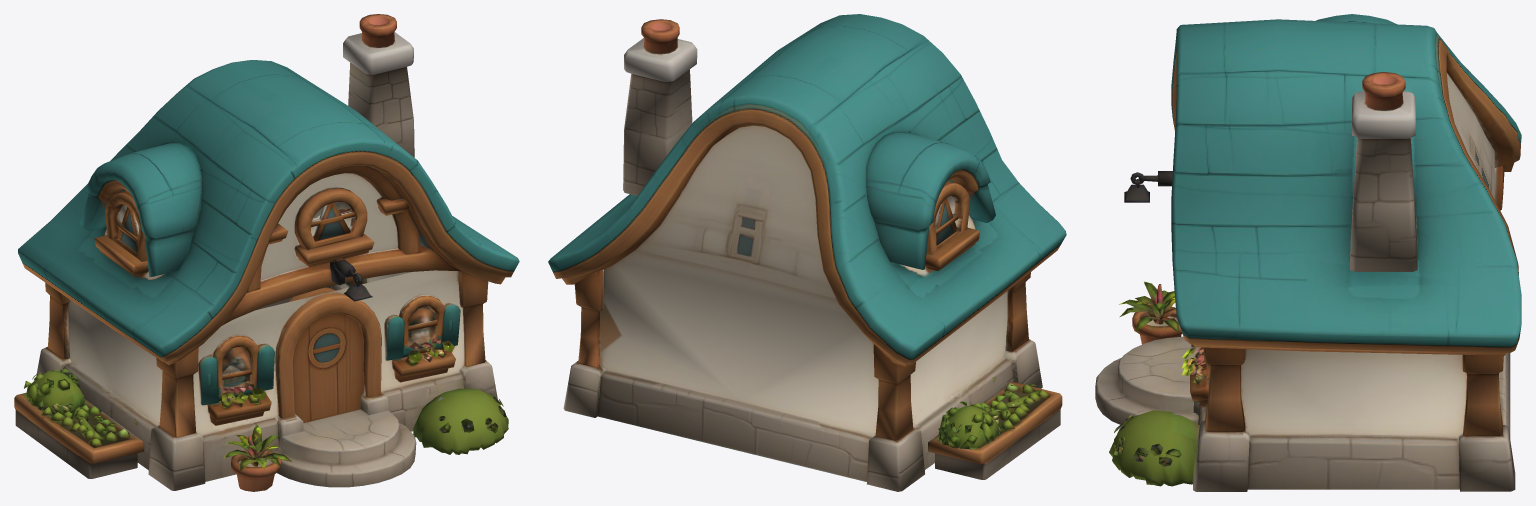
The model's file is player-cottage.glb.
The picture shows the model from 3 angles, left to right: view 1: azimuth 30°, elevation 25°; view 2: azimuth 150°, elevation 25°; view 3: azimuth 270°, elevation 25°; orthographic projection. The views are drawn at different scales.
Visible parts, largest first — view 1: Player Cottage; view 2: Player Cottage; view 3: Player Cottage.
Part boxes in pixels (x1,y1,x2,y2): Player Cottage: [14, 14, 519, 491]; Player Cottage: [548, 14, 1066, 491]; Player Cottage: [1095, 14, 1521, 491].
Bounding box in the file's own units: 0.998 × 0.8184 × 0.8105.
Materials: 1 (1 with a texture image).
